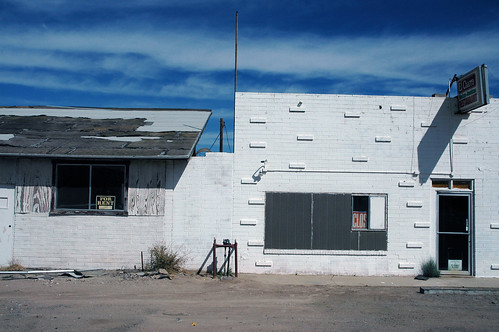building: (1, 93, 499, 287), (428, 189, 478, 276)
sky: (22, 1, 499, 103)
window: (264, 195, 392, 253), (51, 161, 128, 216)
